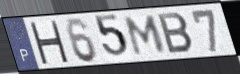5: (92, 13, 131, 62)
6: (64, 16, 98, 64)
7: (189, 7, 220, 53)
B: (156, 12, 196, 55)
H: (27, 20, 70, 64)
M: (123, 14, 168, 57)
